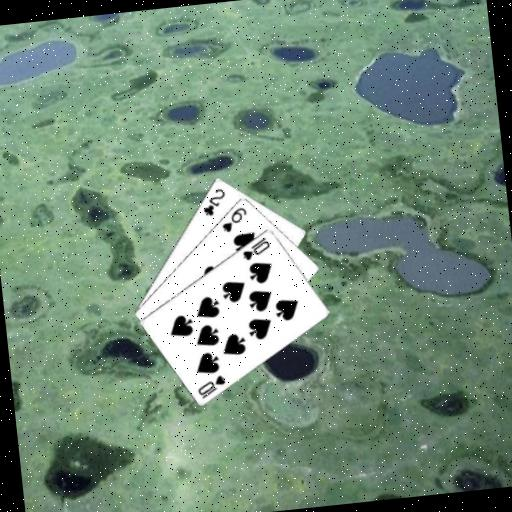10S: (194, 371, 229, 401), (238, 234, 273, 263)
2C: (198, 184, 229, 218)
6S: (217, 204, 250, 234)
